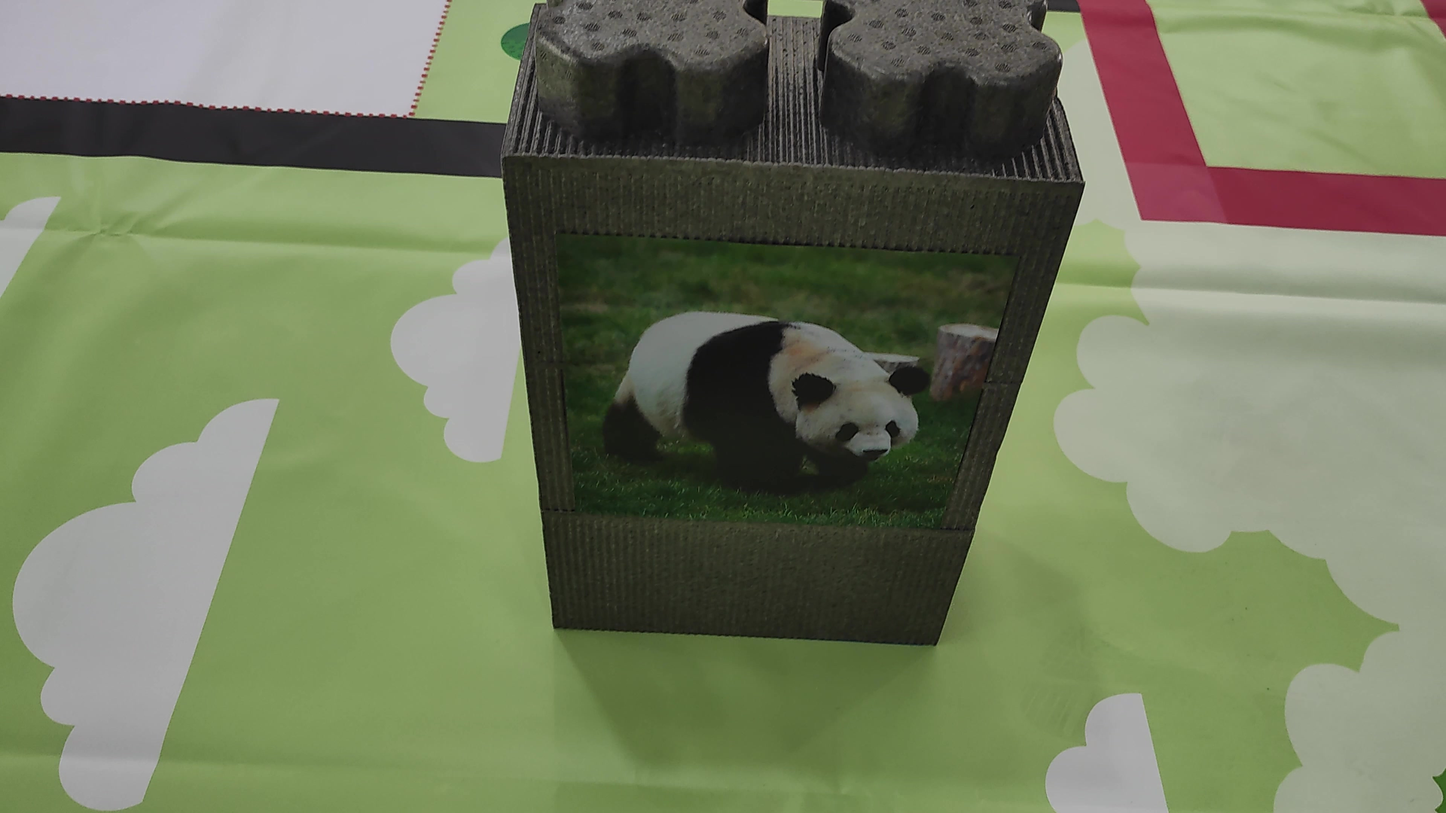panda: (563, 278, 939, 514)
